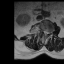CCS_normal: (44, 29, 46, 37)
LFS_normal: (48, 30, 50, 35)
LLS_normal: (46, 29, 48, 36)
RFS_severe_stenosis: (41, 28, 43, 33)
RLS_stenosis: (43, 29, 45, 35)
